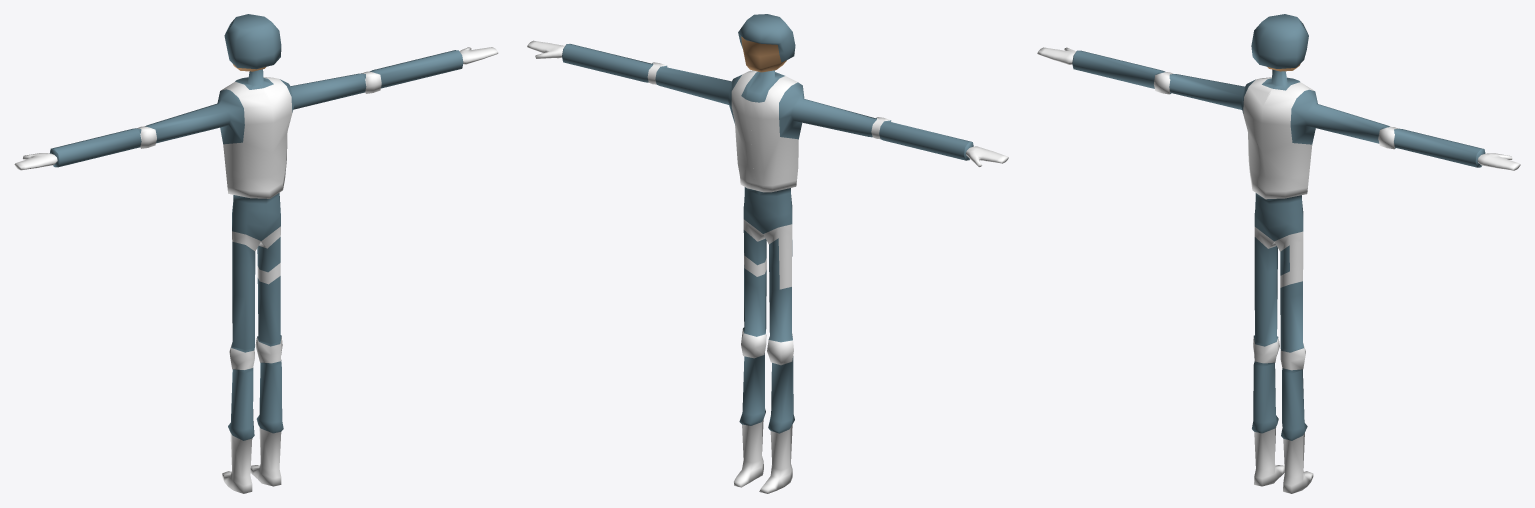
The model's file is SwatModel.obj.
3 views of the same model, side by side, from view 1: azimuth 30°, elevation 25°; view 2: azimuth 150°, elevation 25°; view 3: azimuth 330°, elevation 25° (orthographic).
Visible parts, largest first — view 1: pb-MergedObject-950294_0, pb-MergedObject-950294_1; view 2: pb-MergedObject-950294_0, pb-MergedObject-950294_1, pb-MergedObject-950294_2; view 3: pb-MergedObject-950294_0, pb-MergedObject-950294_1.
Part boxes in pixels (<box>): pb-MergedObject-950294_0: <box>50,14,463,440</box>; pb-MergedObject-950294_1: <box>14,47,498,493</box>; pb-MergedObject-950294_0: <box>562,14,973,433</box>; pb-MergedObject-950294_1: <box>527,40,1008,493</box>; pb-MergedObject-950294_2: <box>741,36,786,72</box>; pb-MergedObject-950294_0: <box>1072,14,1485,440</box>; pb-MergedObject-950294_1: <box>1037,47,1520,493</box>.
Bounding box in the file's own units: 5.65 × 5.21 × 0.7153.
